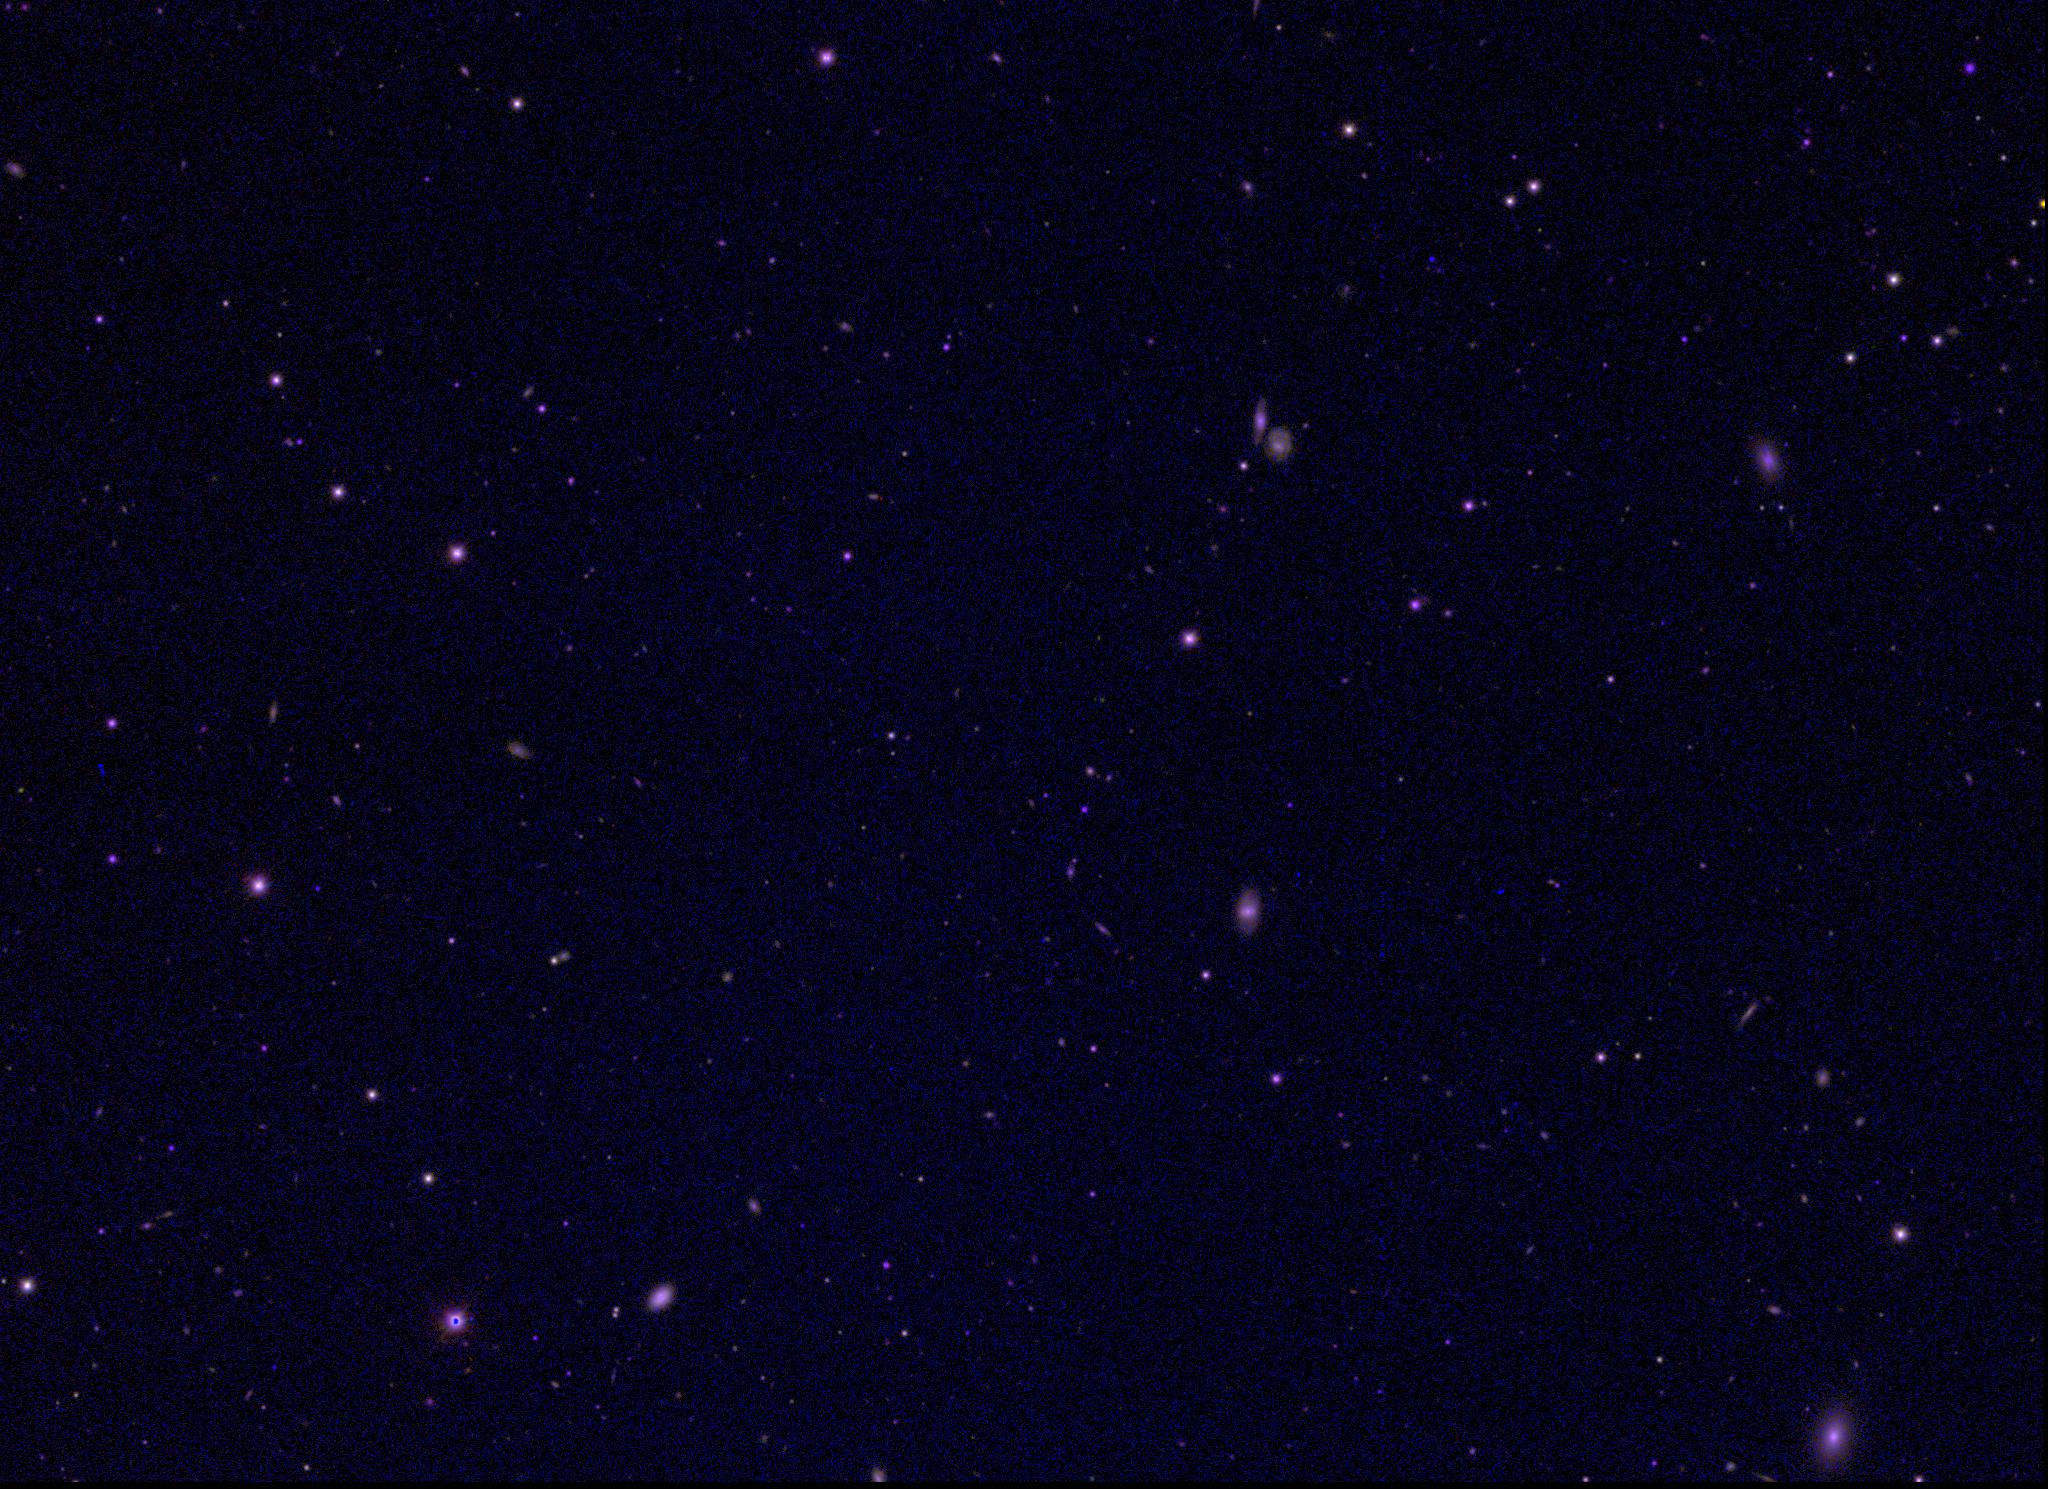L: (1423, 255, 1437, 267)
